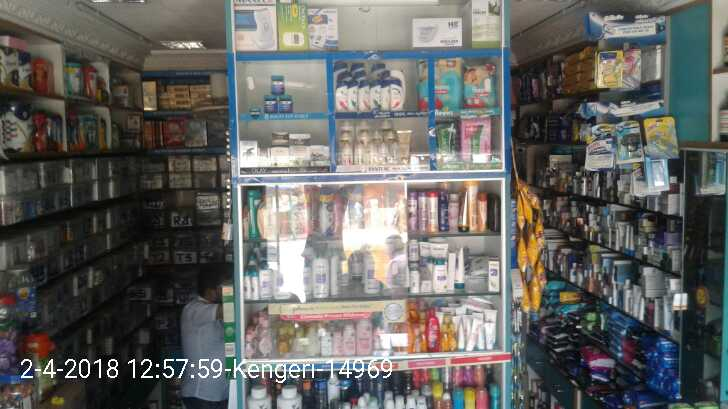vicks: (263, 94, 279, 113), (279, 94, 294, 113), (271, 76, 283, 94)
